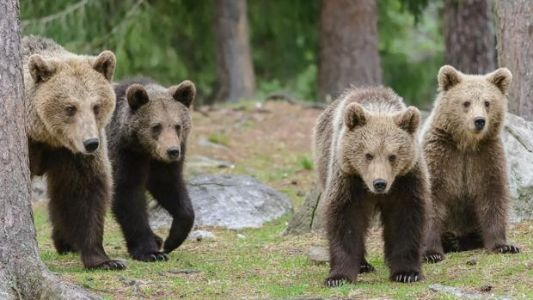bear: (304, 82, 431, 289), (25, 28, 122, 266), (423, 62, 524, 264), (114, 71, 204, 266)
